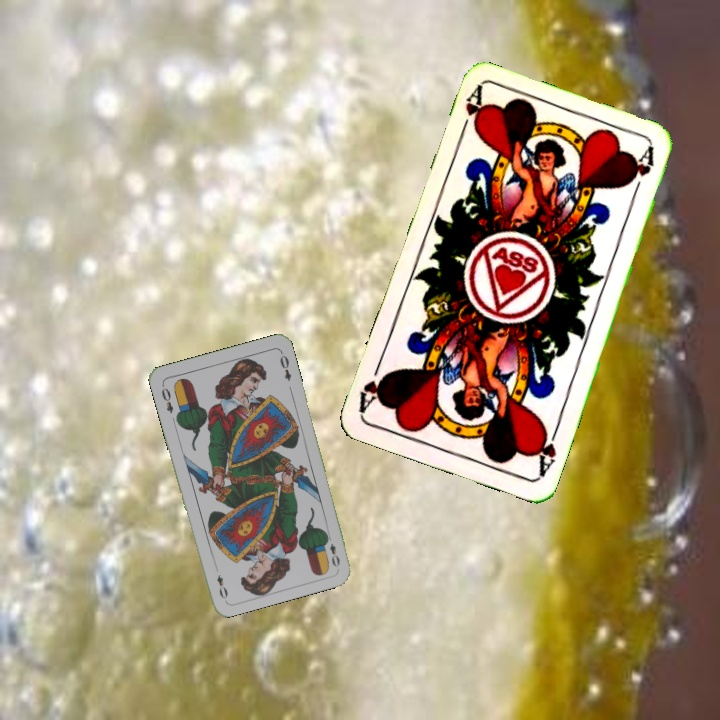EO: (322, 530, 342, 570), (157, 381, 176, 416)
HA: (455, 84, 488, 142), (530, 421, 562, 479)
